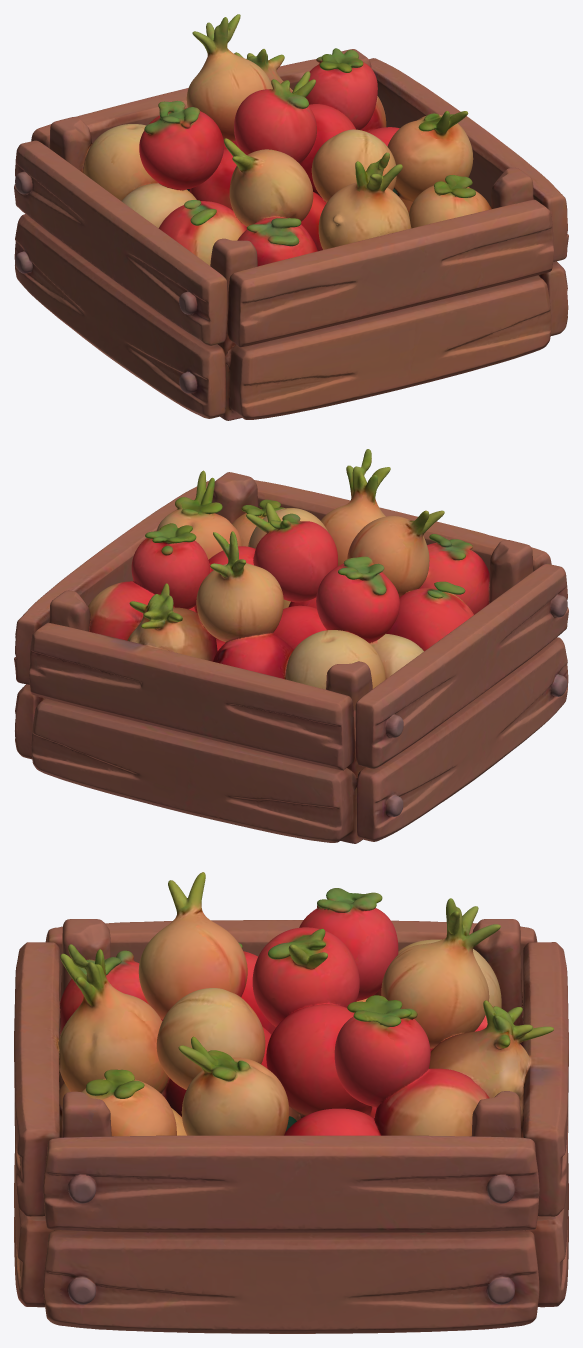
File: IngredientCrate.glb
The picture shows the model from 3 angles, top to bottom: view 1: azimuth 30°, elevation 25°; view 2: azimuth 150°, elevation 25°; view 3: azimuth 270°, elevation 25°; orthographic projection. The views are drawn at different scales.
Visible parts, largest first — view 1: tripo_node_15c0c1ac-5bfa-47d4-b1ac-679a03eaad5d; view 2: tripo_node_15c0c1ac-5bfa-47d4-b1ac-679a03eaad5d; view 3: tripo_node_15c0c1ac-5bfa-47d4-b1ac-679a03eaad5d.
Part boxes in pixels (<box>): tripo_node_15c0c1ac-5bfa-47d4-b1ac-679a03eaad5d: <box>14,14,568,420</box>; tripo_node_15c0c1ac-5bfa-47d4-b1ac-679a03eaad5d: <box>14,449,568,843</box>; tripo_node_15c0c1ac-5bfa-47d4-b1ac-679a03eaad5d: <box>14,872,568,1333</box>.
Bounding box in the file's own units: 1 × 0.6508 × 0.9873.
Materials: 1 (1 with a texture image).
